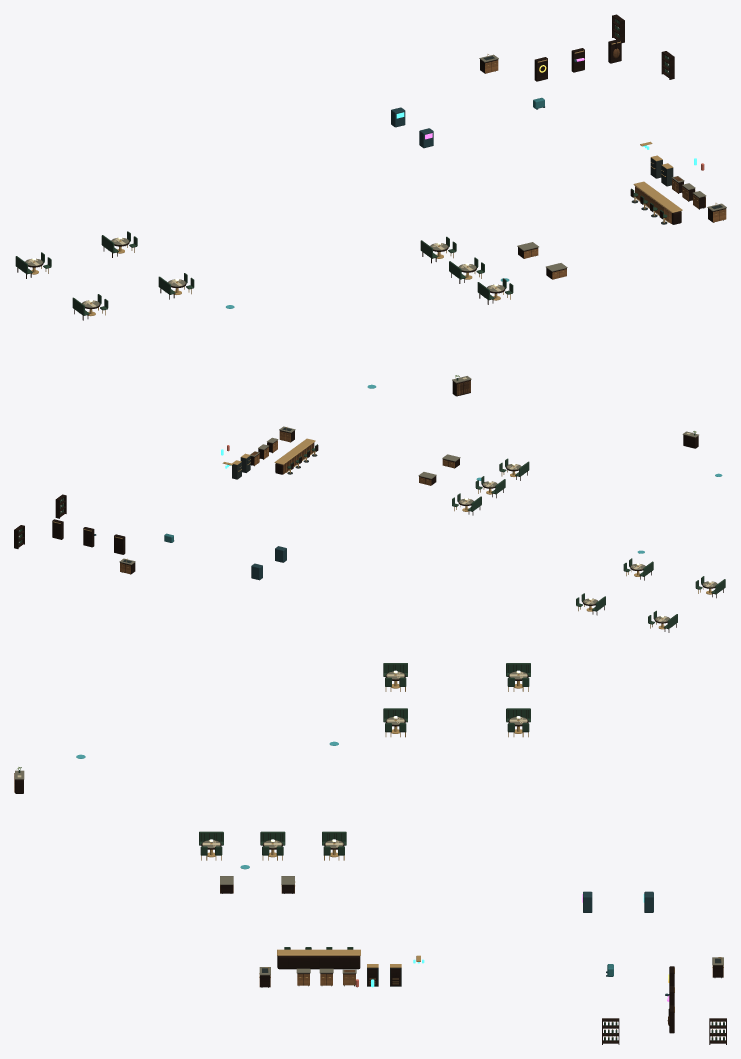
Rendered from bar_interactables.glb.
3 renders of one model, top to bottom at view 1: azimuth 30°, elevation 25°; view 2: azimuth 150°, elevation 25°; view 3: azimuth 270°, elevation 25°, orthographic. The views are drawn at different scales.
Parts seen in each view (by area): view 1: VIS_Garden_HospitalityDetails; view 2: VIS_Garden_HospitalityDetails; view 3: VIS_Garden_HospitalityDetails, VIS_WaterBar_Base.
Part boxes in pixels (<box>): VIS_Garden_HospitalityDetails: <box>17,14,726,395</box>; VIS_Garden_HospitalityDetails: <box>14,426,723,632</box>; VIS_Garden_HospitalityDetails: <box>14,665,726,1044</box>; VIS_WaterBar_Base: <box>277,956,360,969</box>.
Size of the model in its own units: 56.34 by 1.93 by 46.44.
19 materials, 6 textured.
